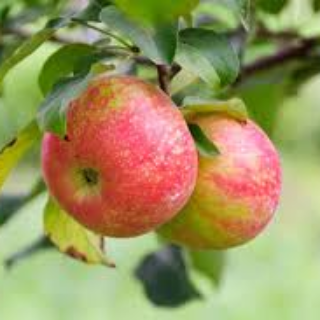tao: (32, 72, 201, 244)
